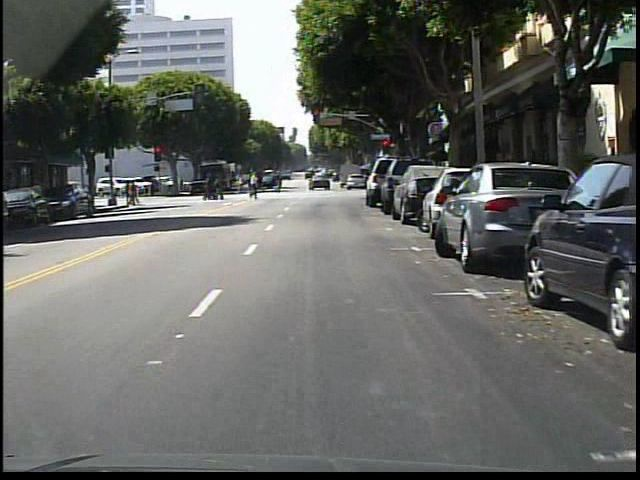person: (242, 170, 264, 202)
